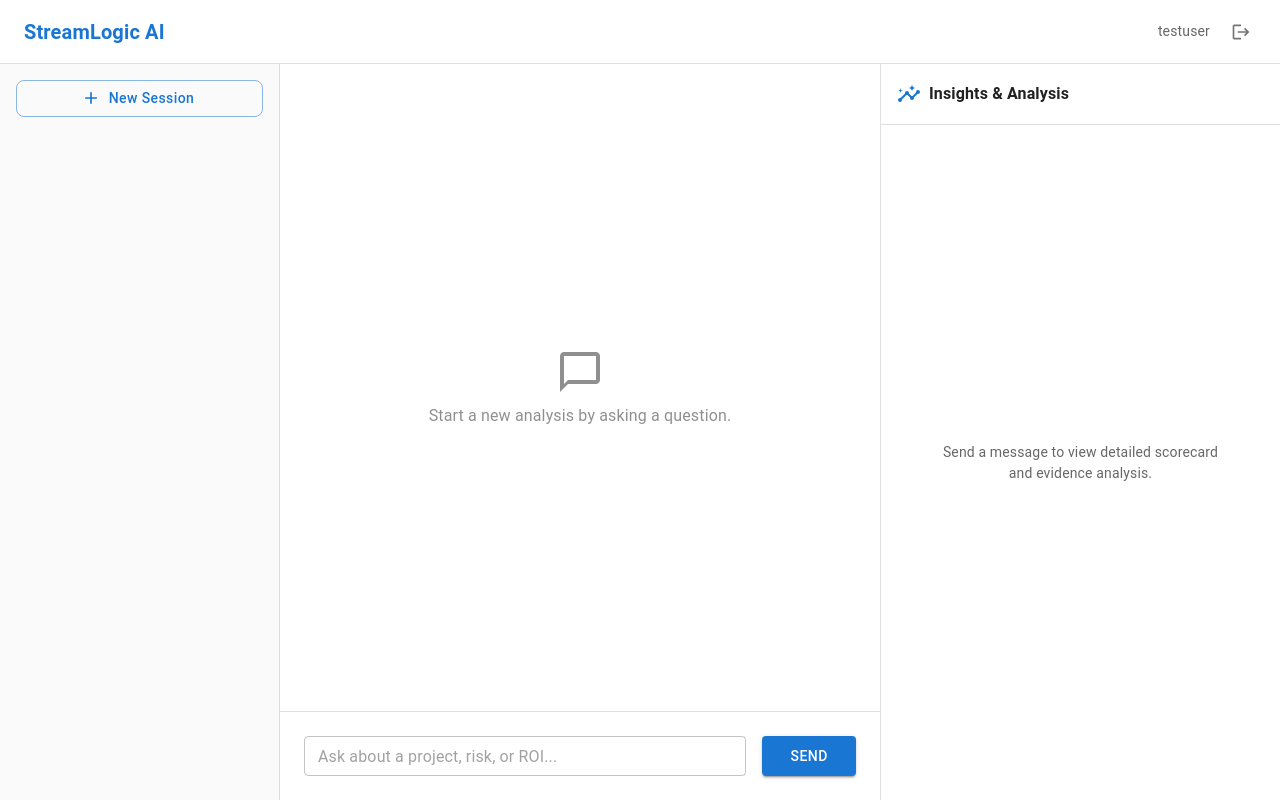
App frontend integration flow › renders follow-up warnings and review-required meta
This screenshot has width=1280, height=800.
Type "Why is ROI near breakeven?" into the field with test id "chat-input". click: (525, 756)
box: [304,736,746,776]
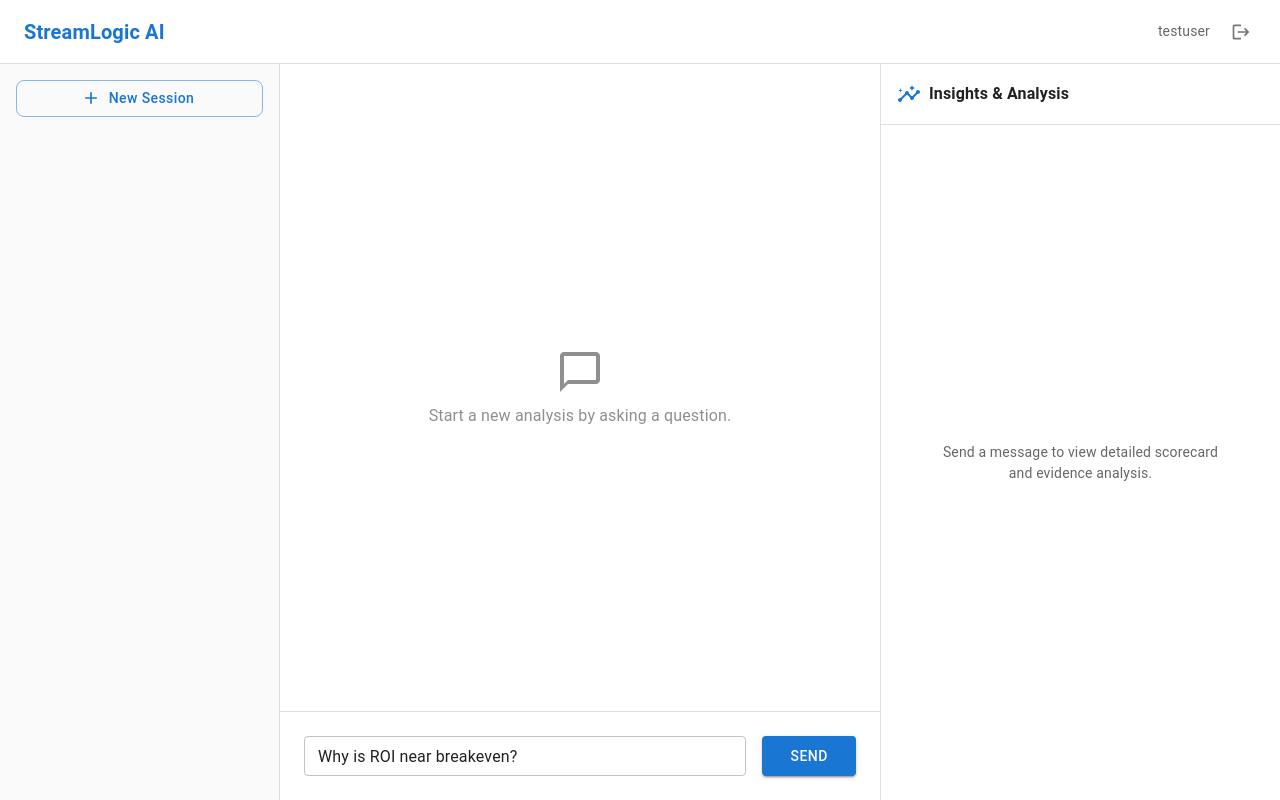
Click the button with test id "chat-submit". click: (809, 756)
box: [762,736,856,776]
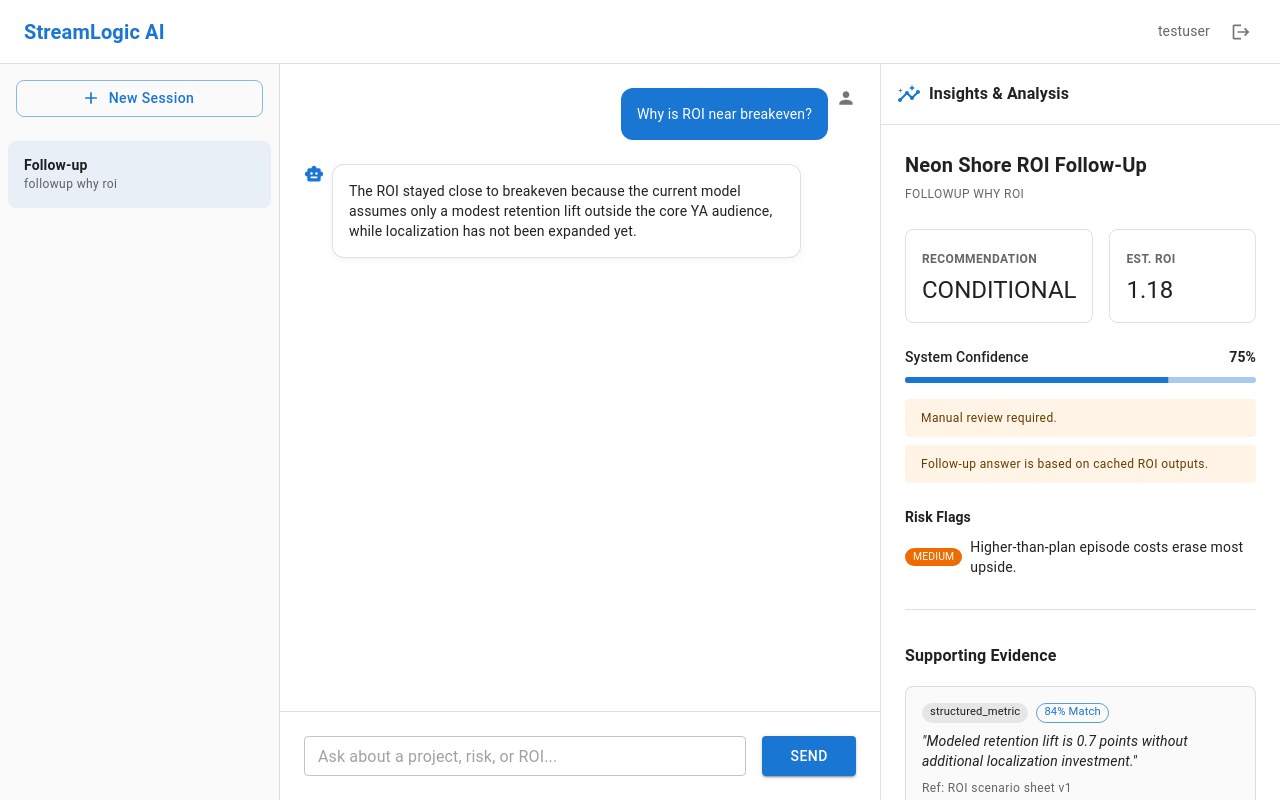
Result: the text with test id "assistant-answer" shows "breakeven" at [349,183,772,239]
Result: the message with test id "review-required" shows "Manual review required" at [921,411,1057,425]
Result: the text "Follow-up answer is based on cached ROI outputs." is shown at [921,457,1208,471]
